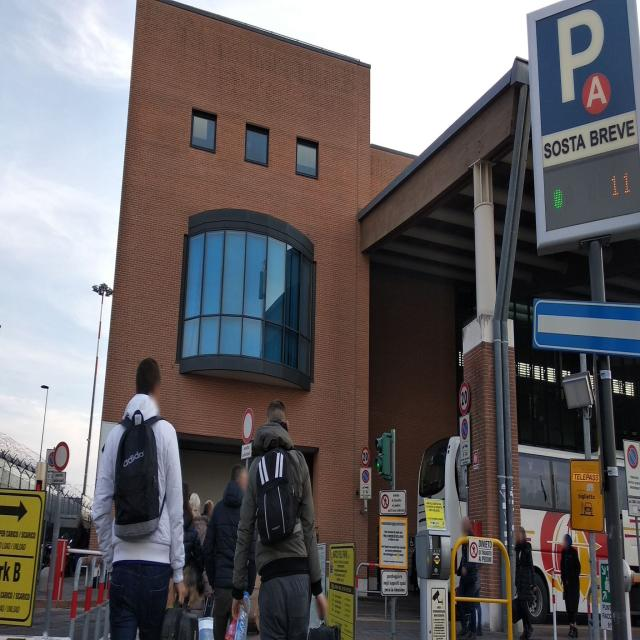forb_stopping: (627, 444, 638, 470), (461, 418, 467, 441), (363, 471, 369, 483)
